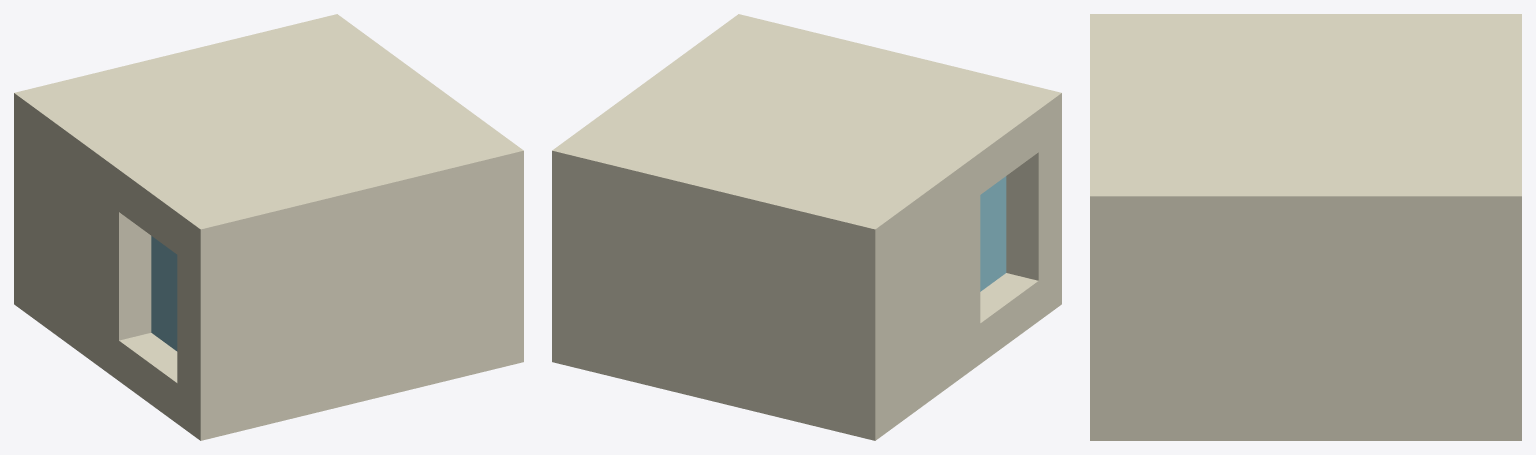
The model's file is modularBuildings_068.fbx.
3 renders of one model, left to right at view 1: azimuth 30°, elevation 25°; view 2: azimuth 150°, elevation 25°; view 3: azimuth 270°, elevation 25°, orthographic. The views are drawn at different scales.
Visible parts, largest first — view 1: Brick.Mesh1 Group1 Model, Glass; view 2: Brick.Mesh1 Group1 Model, Glass; view 3: Brick.Mesh1 Group1 Model.
Boxes of the visible parts, x1,y1,x2,y2 form: Brick.Mesh1 Group1 Model: (14, 14, 523, 440); Glass: (151, 236, 177, 351); Brick.Mesh1 Group1 Model: (552, 14, 1061, 440); Glass: (980, 176, 1006, 291); Brick.Mesh1 Group1 Model: (1090, 14, 1521, 440).
Size of the model in its own units: 1 by 0.625 by 1.
